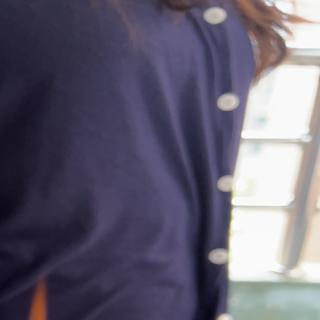fire: (25, 281, 57, 320)
